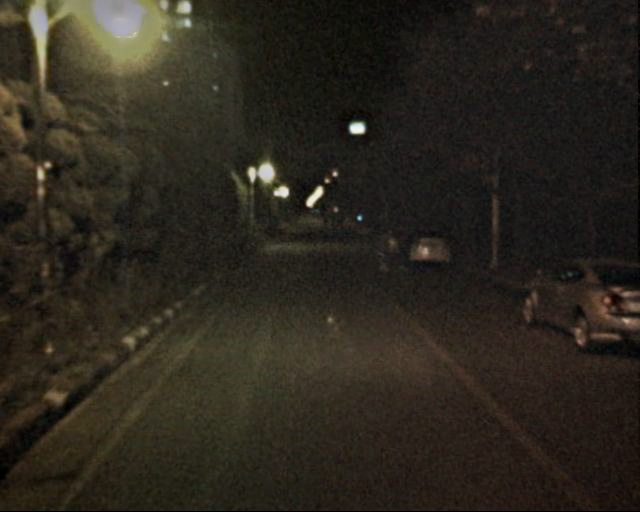person: (393, 221, 413, 270), (372, 223, 392, 271), (319, 217, 348, 244), (276, 216, 287, 244)
